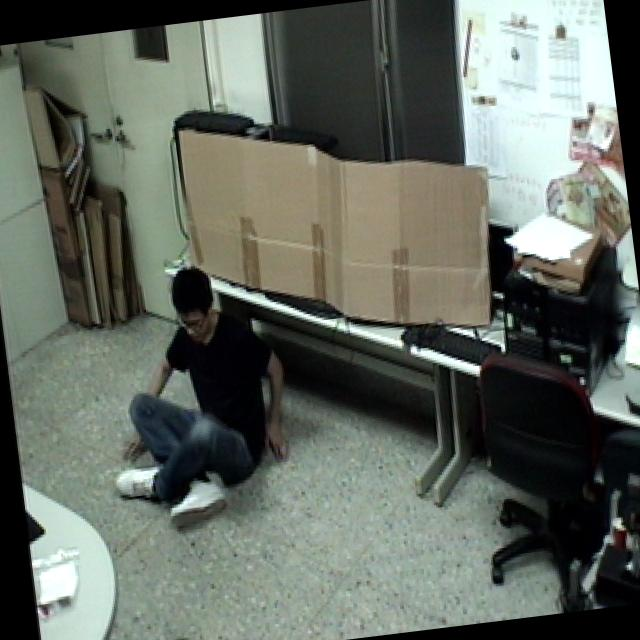sit: (84, 251, 307, 544)
